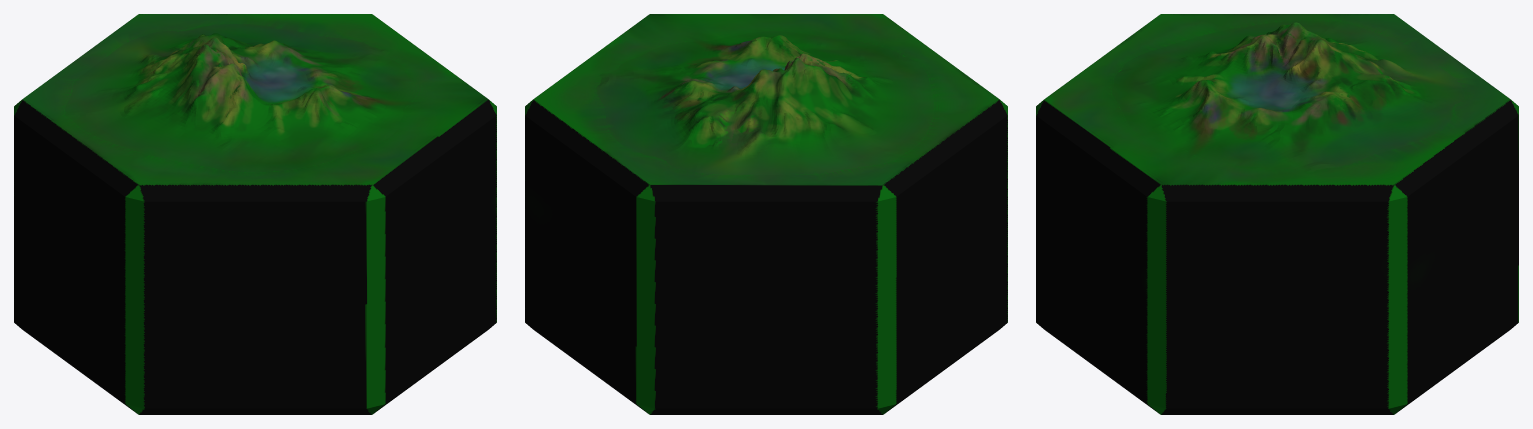
Rendered from 02.Green (large).fbx.
3 renders of one model, left to right at view 1: azimuth 30°, elevation 25°; view 2: azimuth 150°, elevation 25°; view 3: azimuth 270°, elevation 25°, orthographic.
Visible parts, largest first — view 1: 02.Green; view 2: 02.Green; view 3: 02.Green.
Boxes of the visible parts, <box> form: 02.Green: <box>14,14,496,414</box>; 02.Green: <box>525,14,1007,414</box>; 02.Green: <box>1036,14,1518,414</box>.
Size of the model in its own units: 446 by 331 by 503.
1 material, 1 textured.
